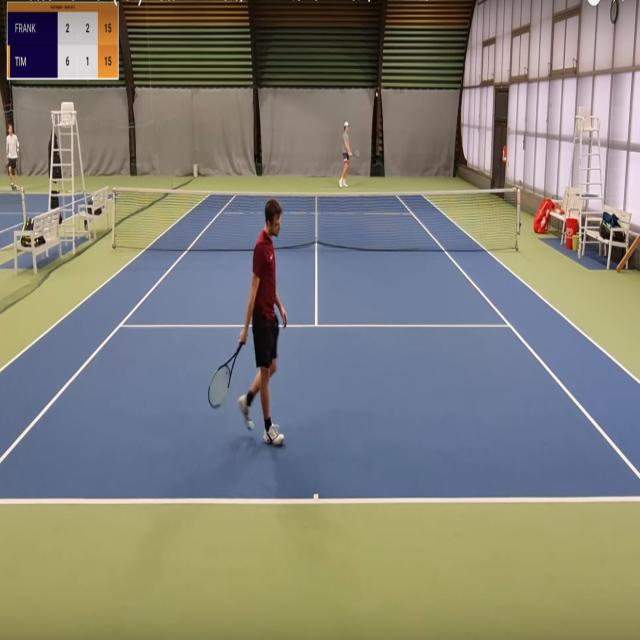ball: (375, 91, 378, 98)
